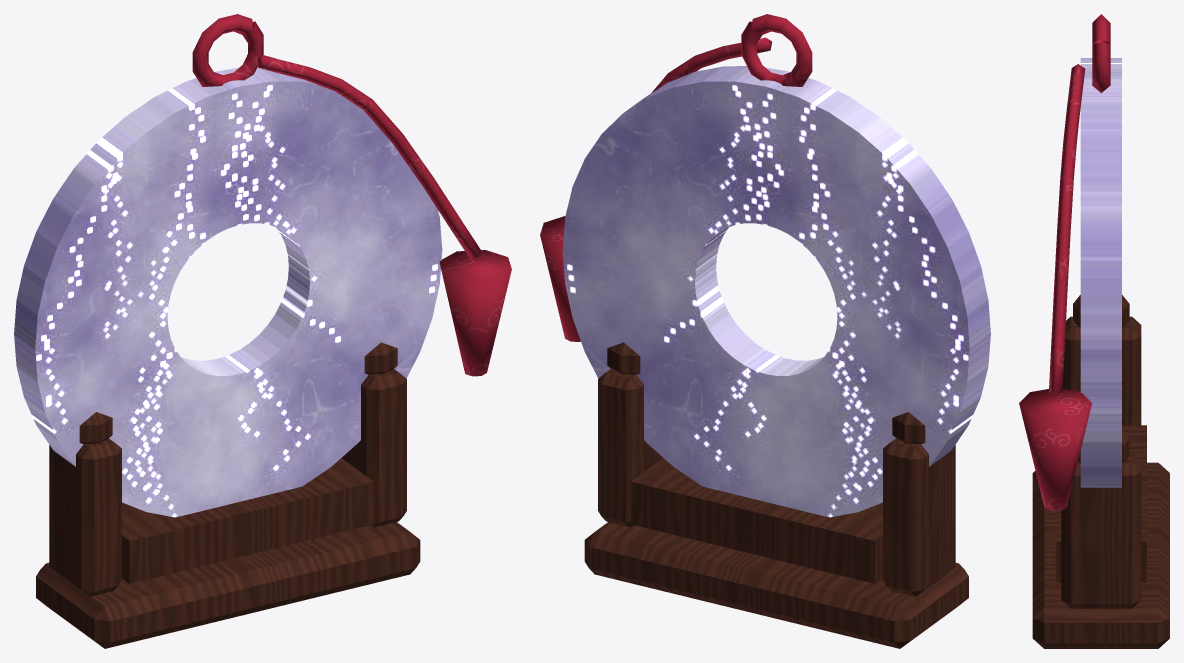
File: tribulation_jade.glb
The picture shows the model from 3 angles, left to right: view 1: azimuth 30°, elevation 25°; view 2: azimuth 150°, elevation 25°; view 3: azimuth 270°, elevation 25°; orthographic projection. The views are drawn at different scales.
Visible parts, largest first — view 1: TribulationBi, JadeStand, JadeCord; view 2: TribulationBi, JadeStand, JadeCord; view 3: JadeStand, TribulationBi, JadeCord.
Boxes of the visible parts, bbox=[...] form: TribulationBi: bbox=[14, 67, 442, 517]; JadeStand: bbox=[36, 342, 420, 648]; JadeCord: bbox=[192, 14, 511, 376]; TribulationBi: bbox=[562, 66, 990, 517]; JadeStand: bbox=[584, 342, 968, 648]; JadeCord: bbox=[540, 14, 812, 341]; JadeStand: bbox=[1032, 295, 1169, 648]; TribulationBi: bbox=[1080, 58, 1121, 487]; JadeCord: bbox=[1019, 14, 1110, 511].
Size of the model in its own units: 0.226 by 0.2694 by 0.066.
Materials: 3 (3 with a texture image).
